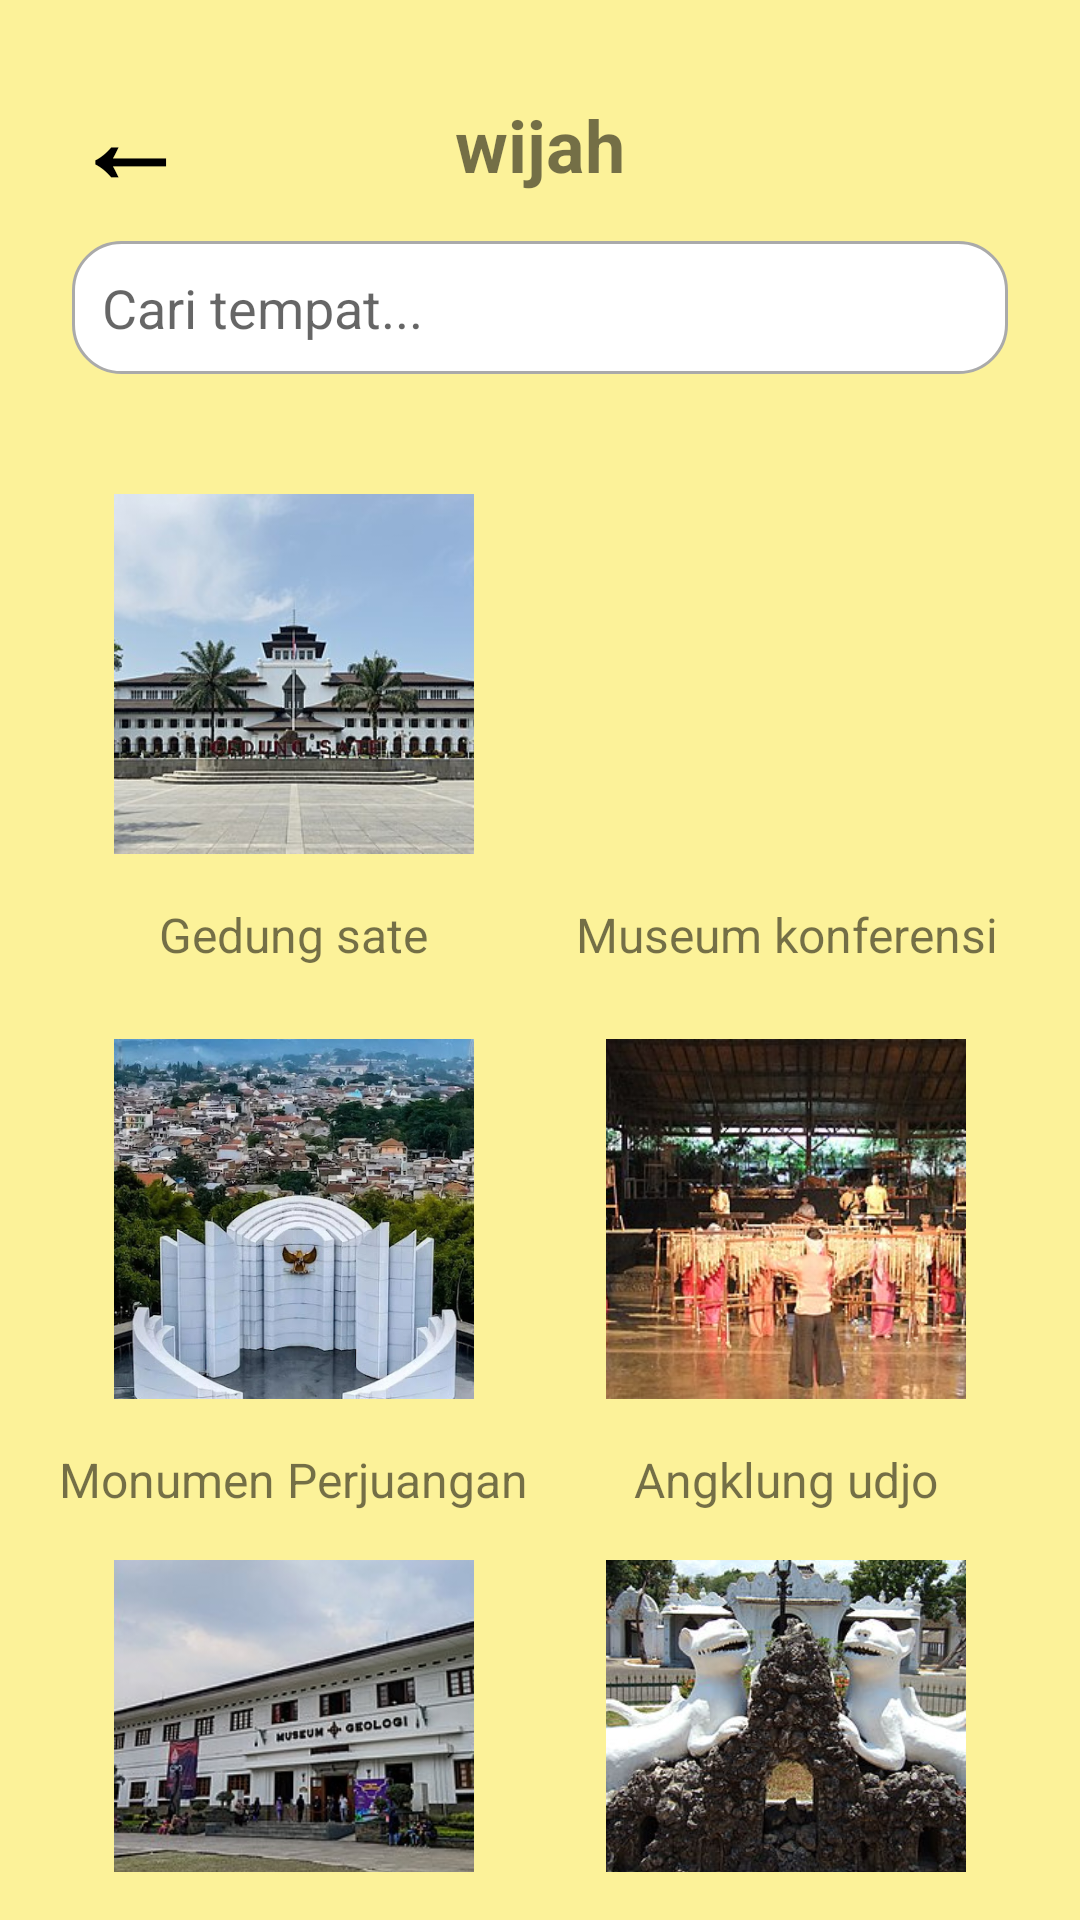

Icons on this 1080w x 1920h Android screen, each with the point to tap as (x=x, y=y):
Photo 1: (x=294, y=674)
